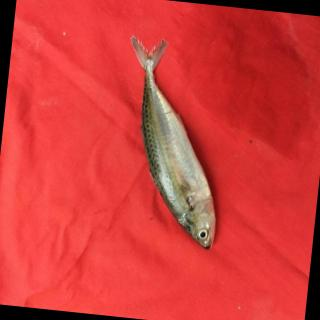Ikan: (105, 28, 259, 258)
